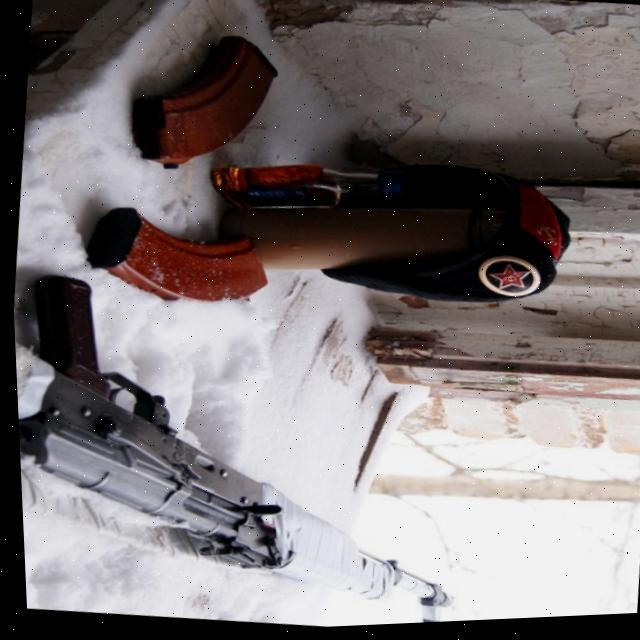firearm: (9, 255, 484, 640)
